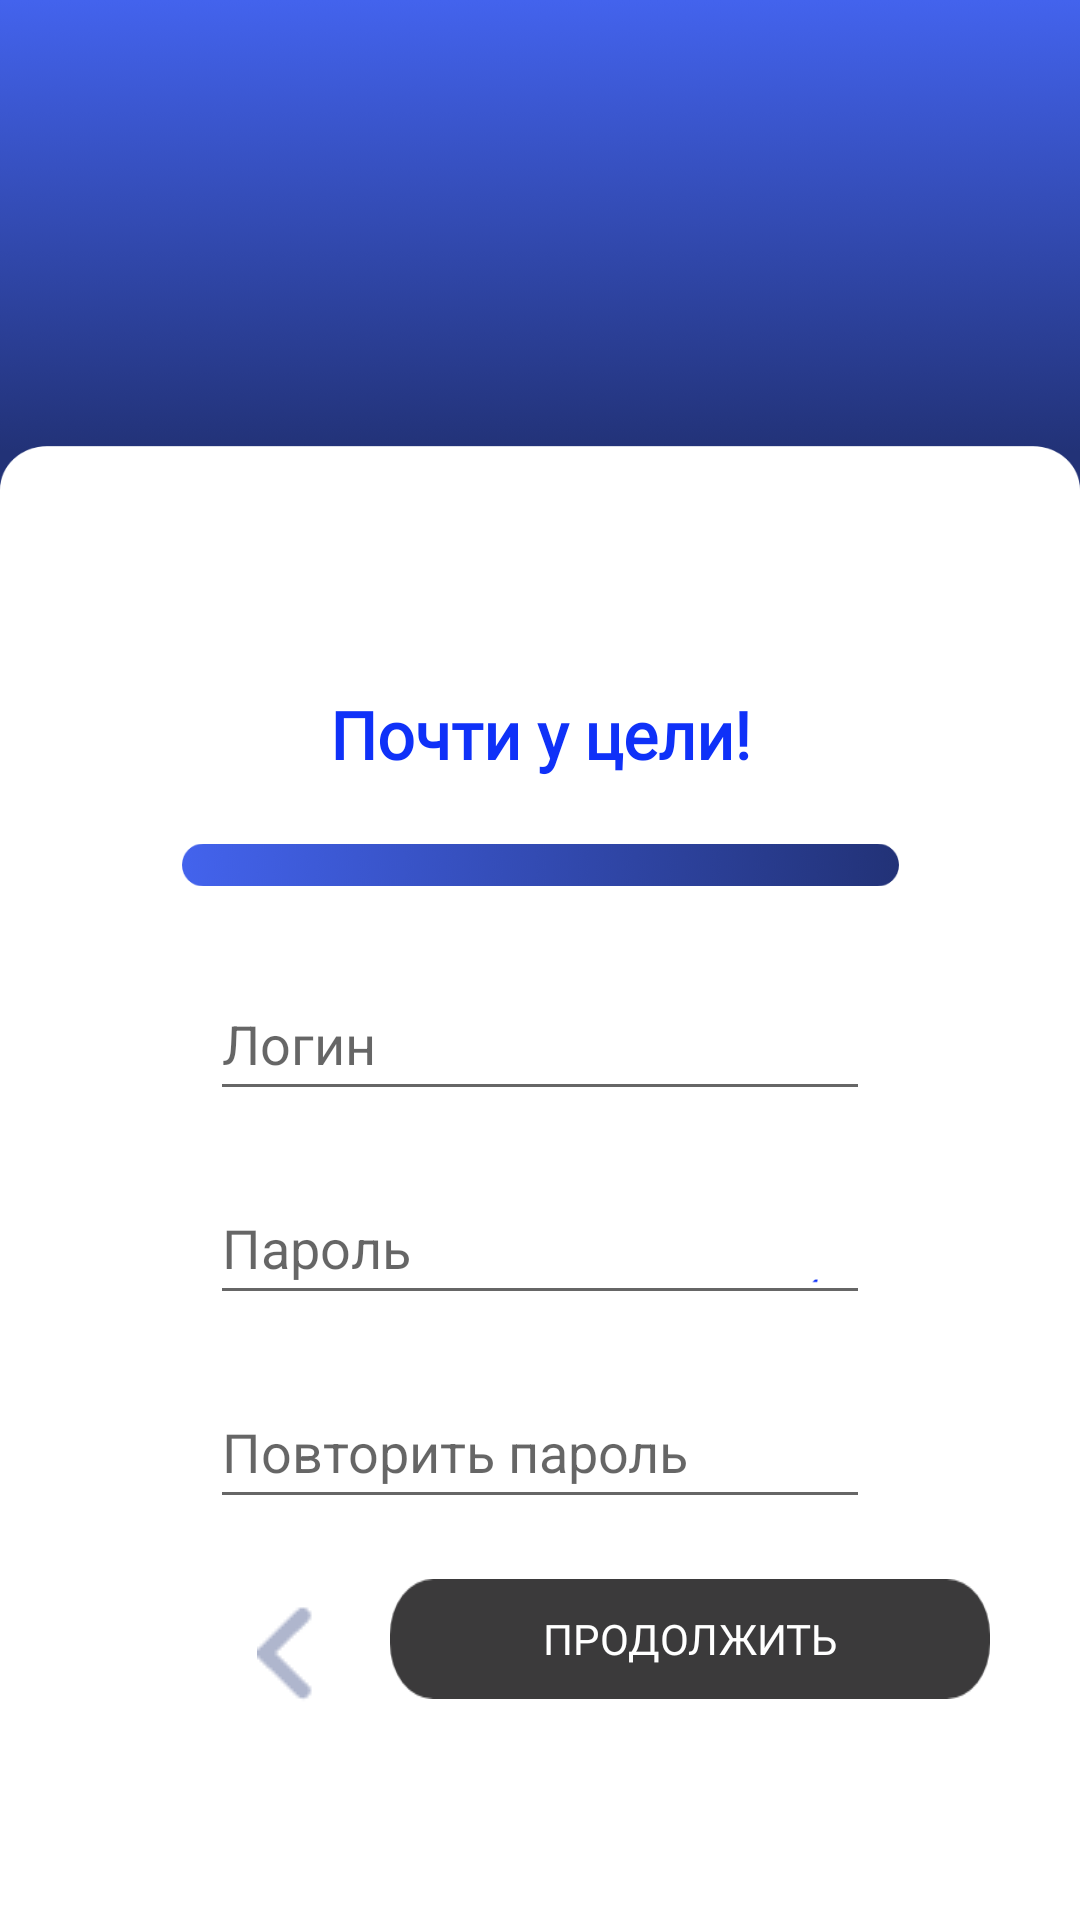

Icon bounding boxes for this 1080px×1920px phone screenshot, format [left=x1, top=y1, right=x2, bottom=y2]:
back: [left=257, top=1607, right=311, bottom=1699]
